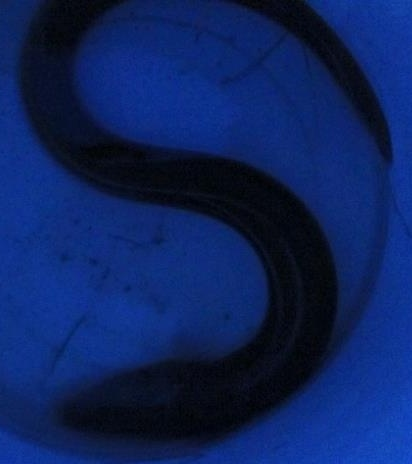Anguilla anguilla: (20, 1, 392, 444)
